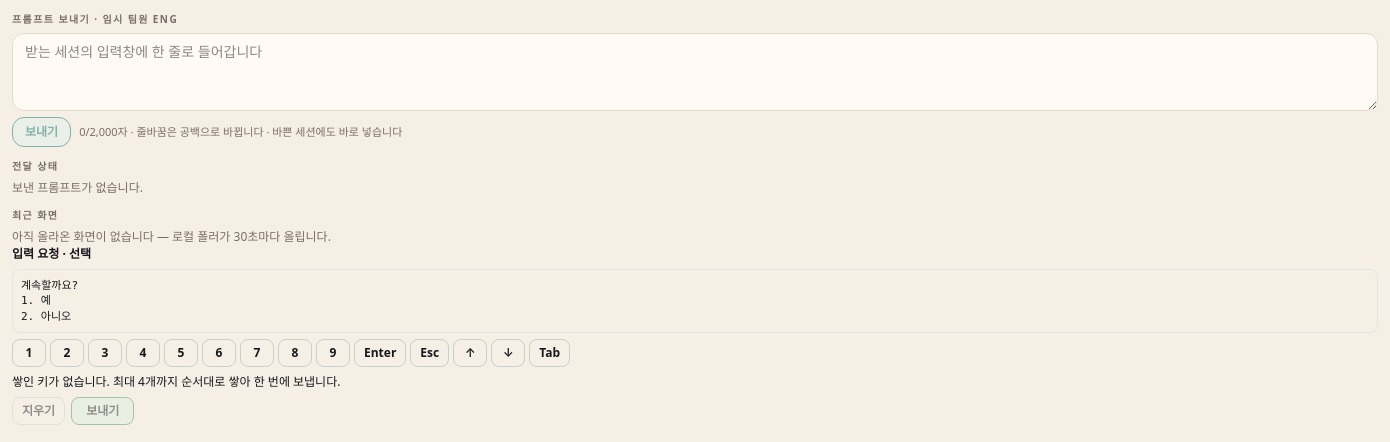
Test: AgentConsole — 입력 요청 답하기 › 이동 키는 최대 4개까지만 쌓이고 지우기로 비운다
Click the button "↑". click: (470, 353)
box: [453,339,487,367]
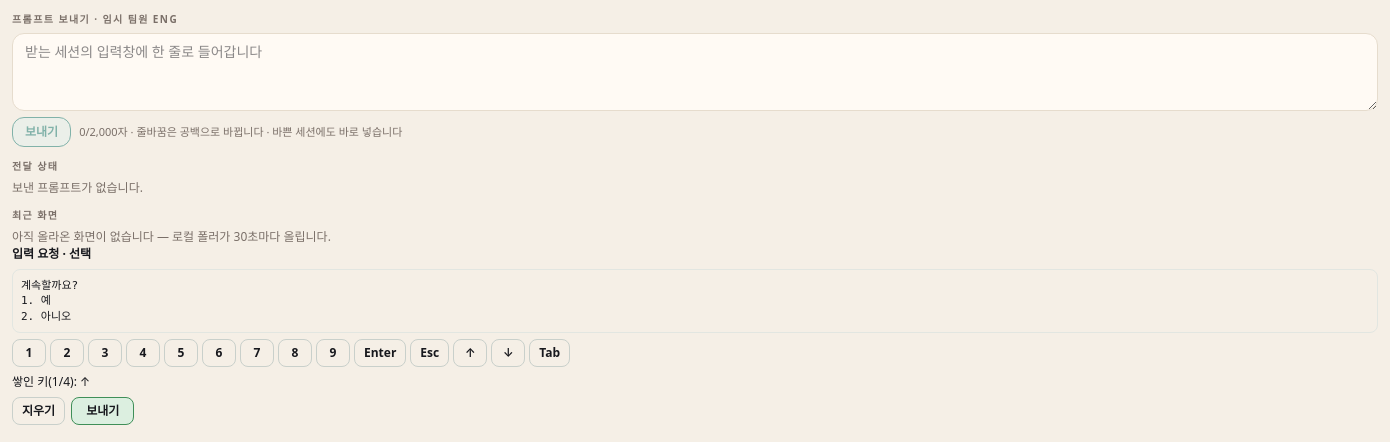
Click the button "↓". click: (508, 353)
box: [491,339,525,367]
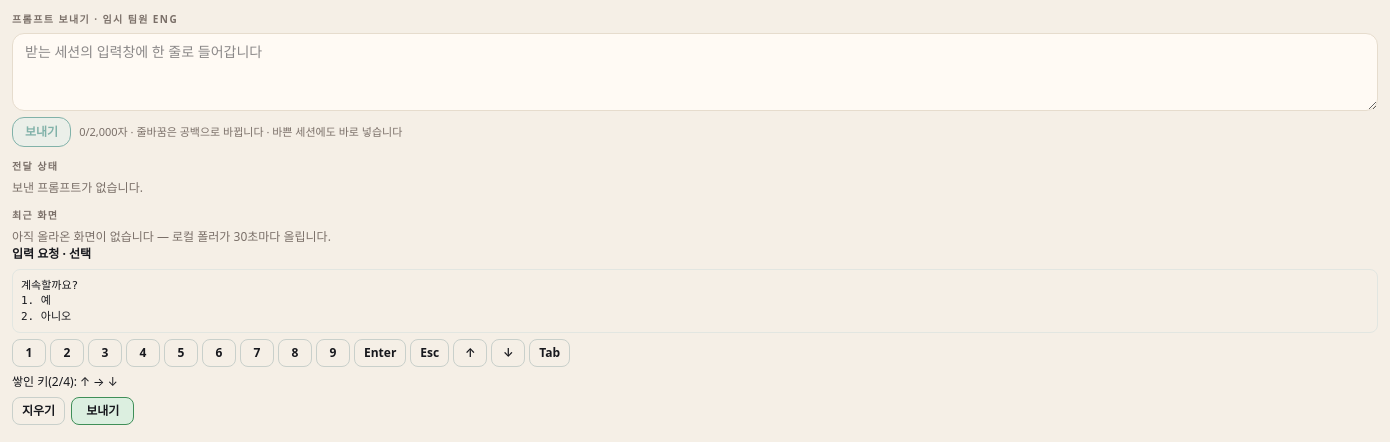
Click the button "↓". click: (508, 353)
box: [491,339,525,367]
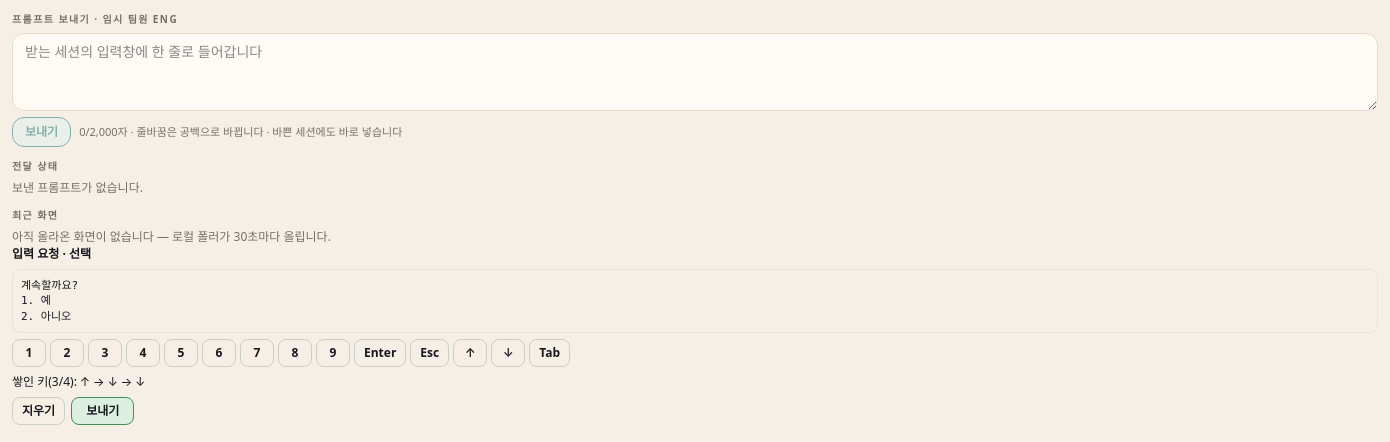
Click the button "↑". click: (470, 353)
box: [453,339,487,367]
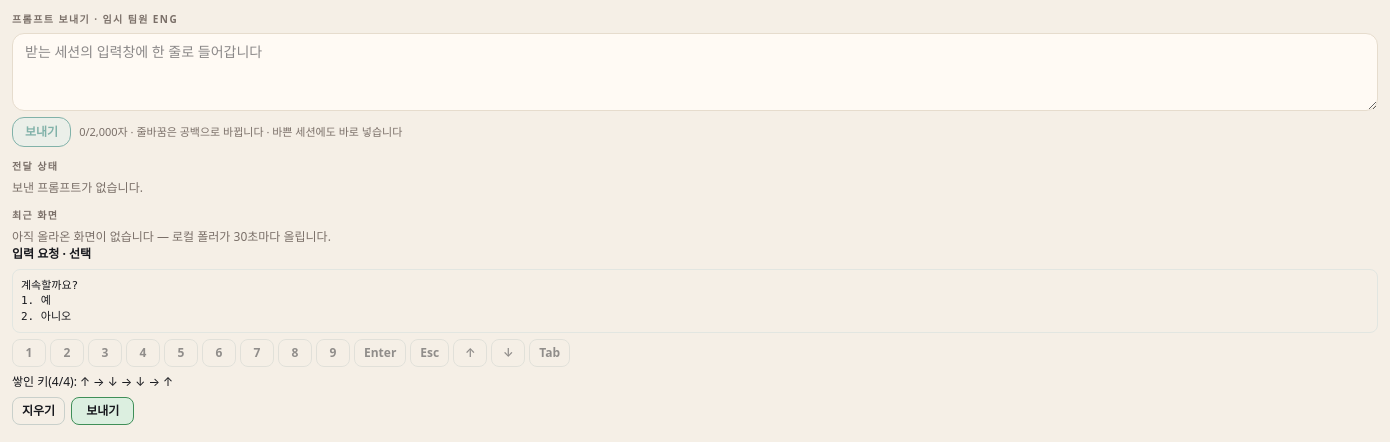
Now the text "쌓인 키(4/4): ↑ → ↓ → ↓ → ↑" is shown, box [12,373,173,390]
Click the button "지우기". click: (39, 411)
box: [12,397,65,425]
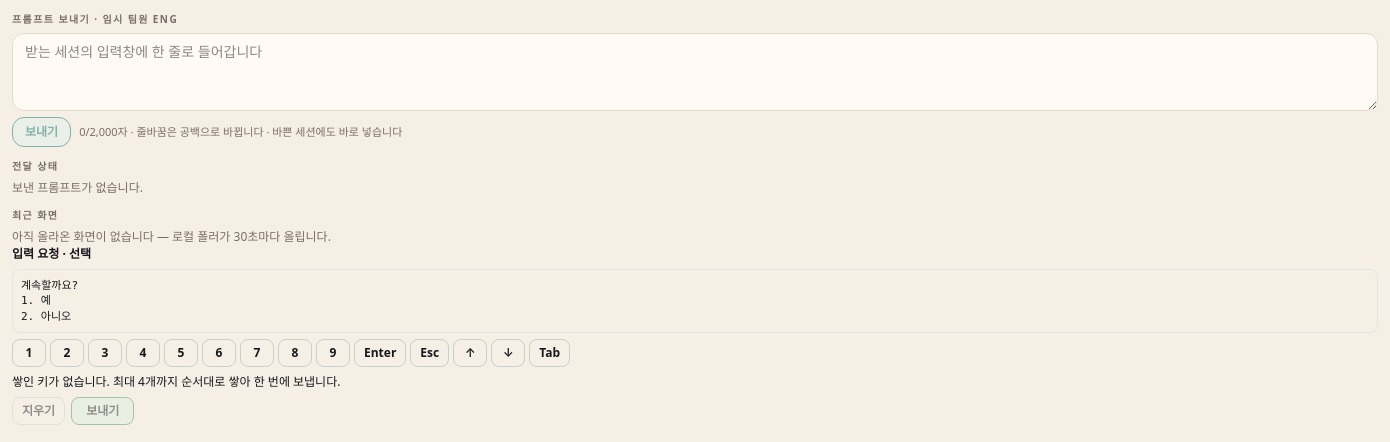
Now the text "쌓인 키가 없습니다. 최대 4개까지 순서대로 쌓아 한 번에 보냅니다." is shown, box [12,373,340,390]
Now the button "3" is enabled, box [88,339,122,367]
